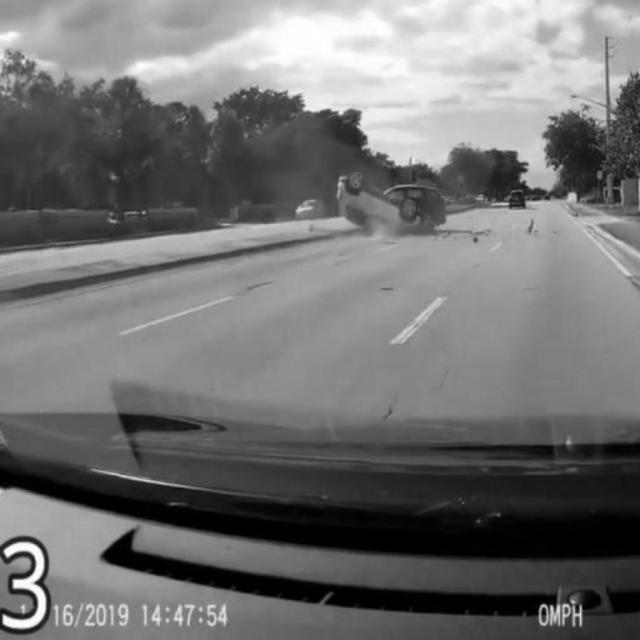accident: (332, 172, 448, 236)
vehicle: (506, 185, 530, 212)
